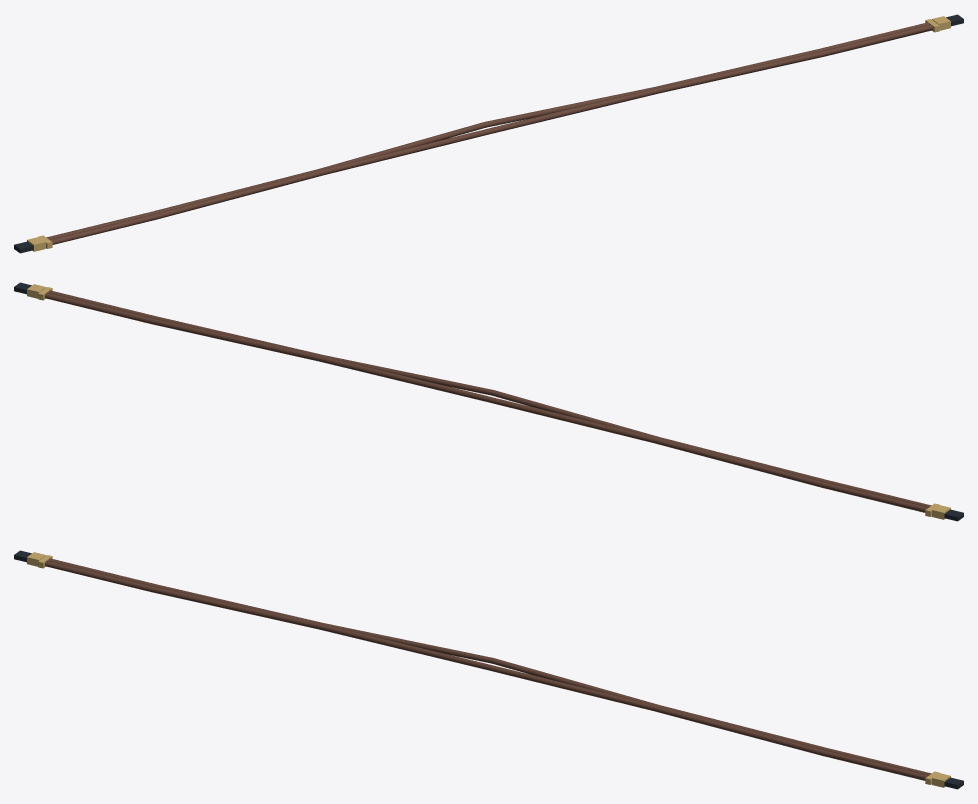
3 renders of one model, top to bottom at view 1: azimuth 30°, elevation 25°; view 2: azimuth 150°, elevation 25°; view 3: azimuth 330°, elevation 25°, orthographic.
Visible parts, largest first — view 1: dual-sleeve-upper, dual-sleeve-lower; view 2: dual-sleeve-lower, dual-sleeve-upper; view 3: dual-sleeve-upper, dual-sleeve-lower.
Boxes of the visible parts, box(x1,y1,x2,y2) form: dual-sleeve-upper: box(49, 24, 932, 244); dual-sleeve-lower: box(46, 22, 929, 239); dual-sleeve-lower: box(45, 292, 928, 512); dual-sleeve-upper: box(48, 290, 931, 507); dual-sleeve-upper: box(45, 560, 928, 780); dual-sleeve-lower: box(48, 558, 931, 775).
Size of the model in its own units: 1.41 by 0.018 by 0.028.
